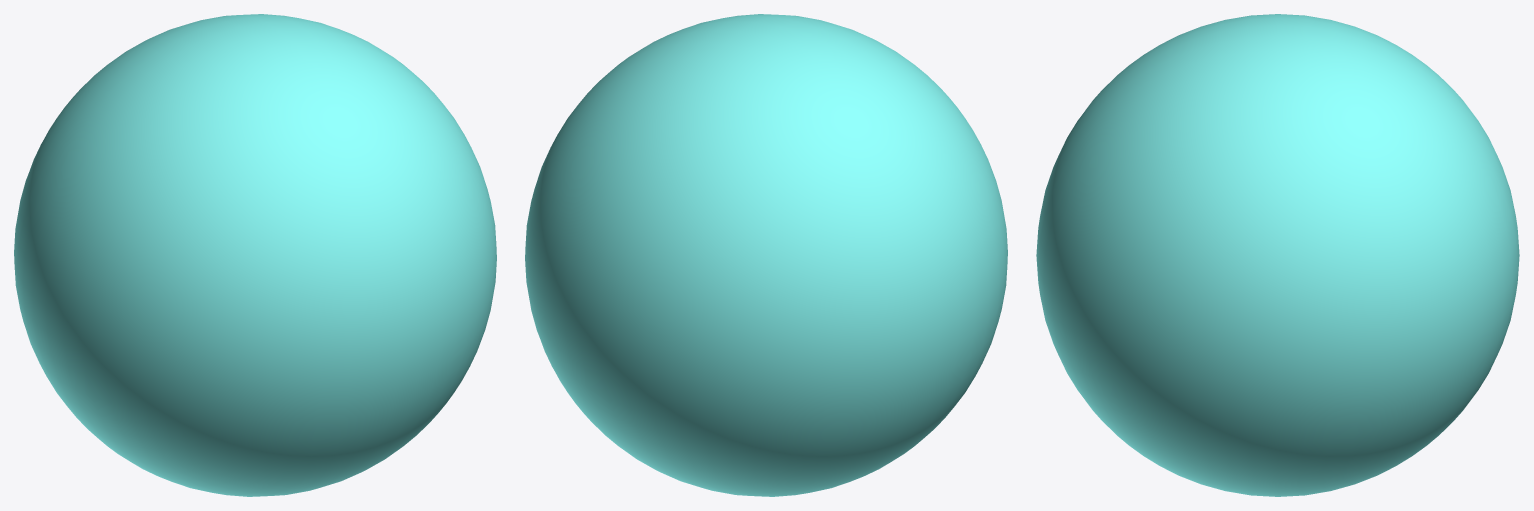
The model's file is Oatom.glb.
3 views of the same model, side by side, from view 1: azimuth 30°, elevation 25°; view 2: azimuth 150°, elevation 25°; view 3: azimuth 270°, elevation 25° (orthographic).
Parts seen in each view (by area): view 1: node_id5; view 2: node_id5; view 3: node_id5.
Part boxes in pixels (x1,y1,x2,y2): node_id5: (14,14,496,496); node_id5: (525,14,1007,496); node_id5: (1036,14,1519,496).
Size of the model in its own units: 0.8915 by 0.8915 by 0.8915.
1 material, 1 textured.
